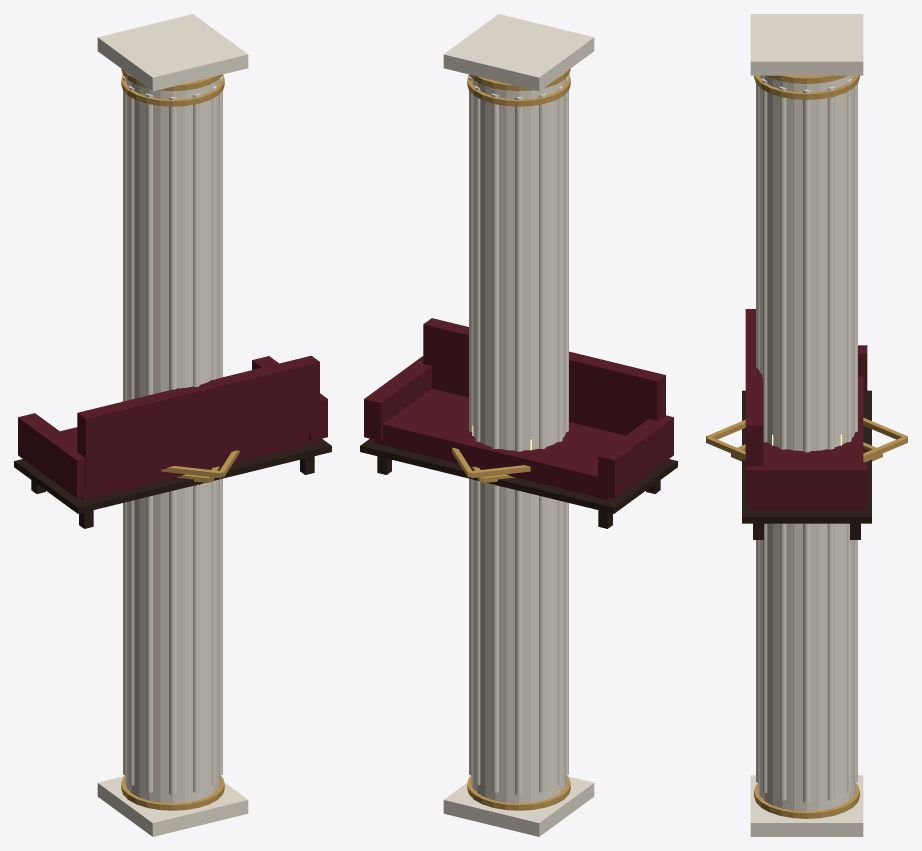
The model's file is GalaSculptures.fbx.
3 renders of one model, left to right at view 1: azimuth 30°, elevation 25°; view 2: azimuth 150°, elevation 25°; view 3: azimuth 270°, elevation 25°, orthographic. The views are drawn at different scales.
Visible parts, largest first — view 1: Column_Stone, Settee_Back, Settee_Frame, Settee_LeftArm, Settee_Seat, Column_Bands, Chandelier_Frame, Settee_RightArm; view 2: Column_Stone, Settee_Seat, Settee_Back, Settee_Frame, Settee_LeftArm, Settee_RightArm, Column_Bands, Chandelier_Frame; view 3: Column_Stone, Settee_RightArm, Settee_Frame, Settee_Back, Column_Bands, Settee_Seat, Chandelier_Frame, Settee_LeftArm.
Part boxes in pixels (x1,y1,x2,y2): Column_Stone: (97,14,248,836); Settee_Back: (77,355,319,487); Settee_Frame: (14,438,331,528); Settee_LeftArm: (18,413,93,498); Settee_Seat: (60,427,317,499); Column_Bands: (121,69,224,810); Chandelier_Frame: (121,401,239,486); Settee_RightArm: (252,356,327,441); Column_Stone: (443,14,594,836); Settee_Seat: (374,388,625,499); Settee_Back: (423,318,665,435); Settee_Frame: (360,438,677,528); Settee_LeftArm: (598,415,673,498); Settee_RightArm: (364,356,431,441); Column_Bands: (467,69,570,810); Chandelier_Frame: (452,447,530,486); Column_Stone: (750,14,863,836); Settee_RightArm: (746,462,867,509); Settee_Frame: (742,390,871,539); Settee_Back: (745,309,763,496); Column_Bands: (754,75,859,818); Settee_Seat: (750,376,863,510); Chandelier_Frame: (706,417,907,461); Settee_LeftArm: (858,345,867,392).
Bounding box in the file's own units: 770 × 2200 × 519.
